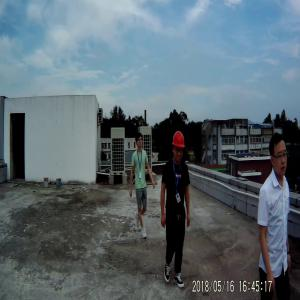none: (268, 129, 290, 181), (135, 130, 145, 152)
red: (172, 130, 186, 166)
